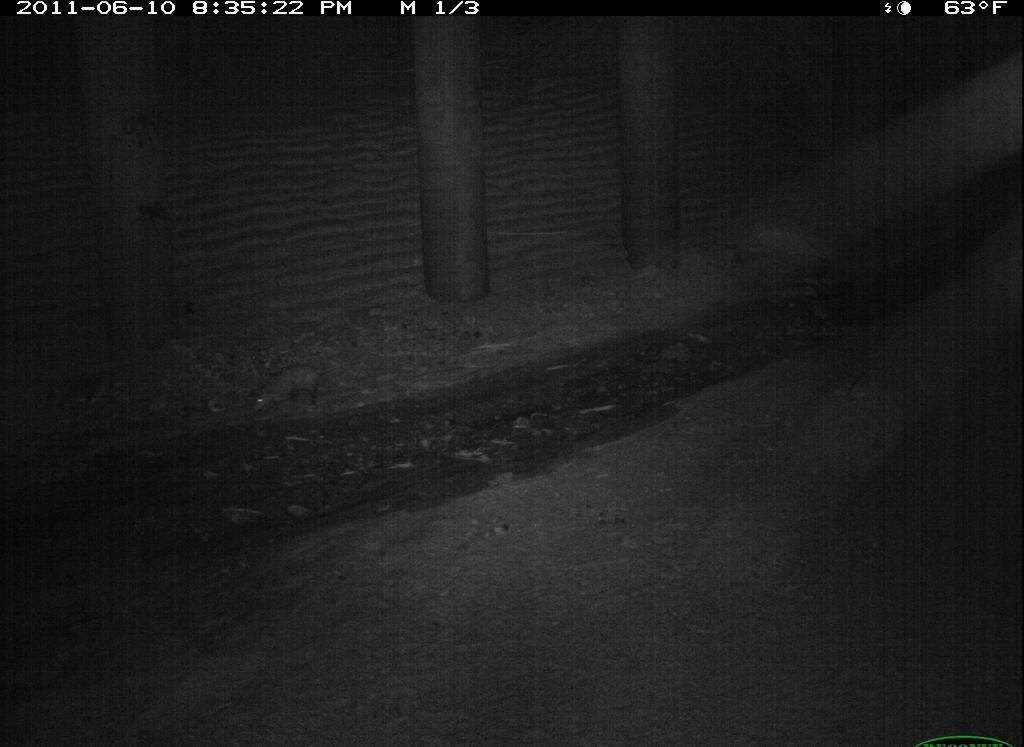opossum: (479, 718, 726, 747)
